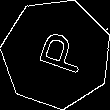P_W: (27, 28, 86, 79)
